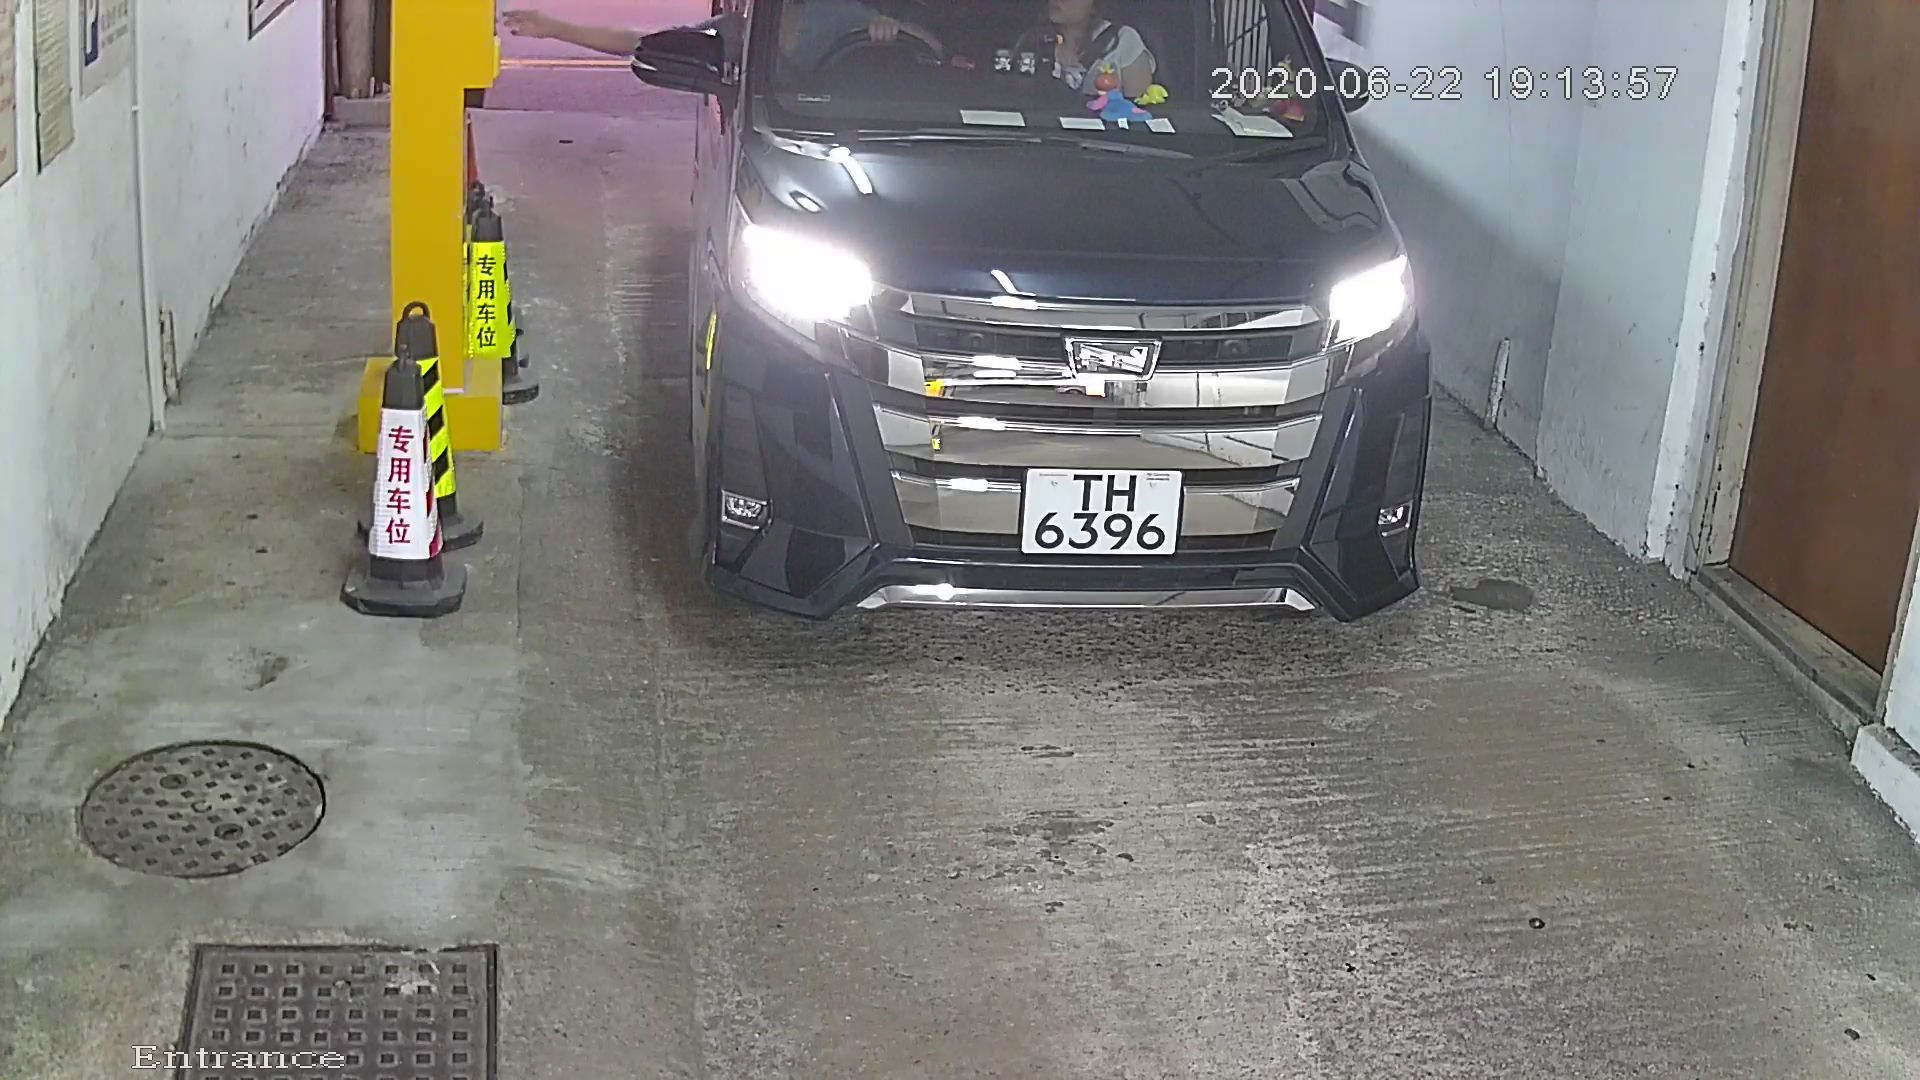privatecar: (593, 3, 1477, 698)
